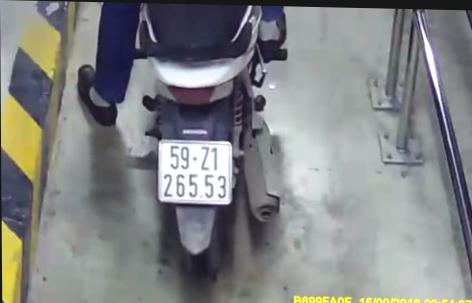License_Plate: (154, 138, 239, 213)
